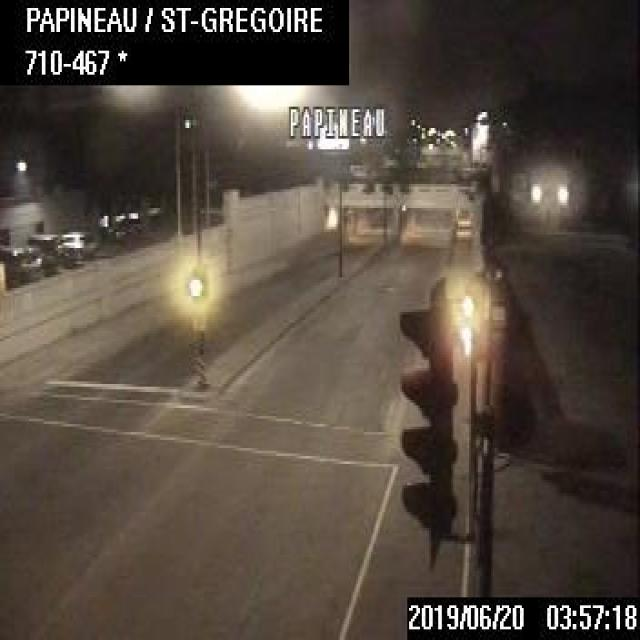vehicle: (58, 228, 89, 258)
